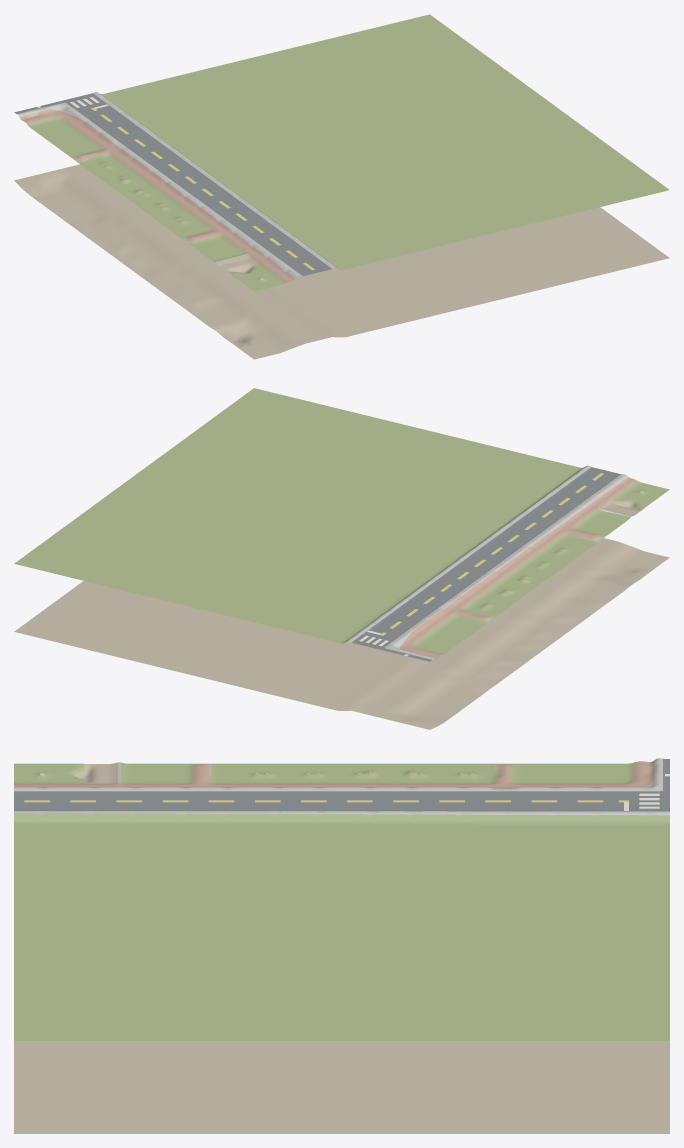
3 renders of one model, top to bottom at view 1: azimuth 30°, elevation 25°; view 2: azimuth 150°, elevation 25°; view 3: azimuth 270°, elevation 25°, orthographic. The views are drawn at different scales.
Visible parts, largest first — view 1: s_-4_4__grass, s_-4_4__soil, s_-4_4__asphalt, s_-4_4__brick_paving, s_-4_4__stone_paving; view 2: s_-4_4__grass, s_-4_4__soil, s_-4_4__asphalt, s_-4_4__brick_paving, s_-4_4__stone_paving, s_-4_4__yellow_marking; view 3: s_-4_4__grass, s_-4_4__soil, s_-4_4__asphalt, s_-4_4__stone_paving, s_-4_4__brick_paving, s_-4_4__yellow_marking.
Boxes of the visible parts, left/top/right/bottom form: s_-4_4__grass: left=19, top=14, right=669, bottom=291; s_-4_4__soil: left=14, top=157, right=669, bottom=359; s_-4_4__asphalt: left=14, top=93, right=331, bottom=275; s_-4_4__brick_paving: left=20, top=109, right=294, bottom=282; s_-4_4__stone_paving: left=17, top=92, right=335, bottom=278; s_-4_4__grass: left=14, top=388, right=669, bottom=654; s_-4_4__soil: left=14, top=501, right=669, bottom=729; s_-4_4__asphalt: left=351, top=467, right=620, bottom=661; s_-4_4__brick_paving: left=399, top=476, right=636, bottom=658; s_-4_4__stone_paving: left=346, top=465, right=631, bottom=659; s_-4_4__yellow_marking: left=380, top=473, right=603, bottom=635; s_-4_4__grass: left=14, top=760, right=669, bottom=1040; s_-4_4__soil: left=14, top=763, right=669, bottom=1133; s_-4_4__asphalt: left=14, top=758, right=669, bottom=811; s_-4_4__stone_paving: left=14, top=758, right=669, bottom=815; s_-4_4__brick_paving: left=14, top=761, right=654, bottom=788; s_-4_4__yellow_marking: left=24, top=800, right=628, bottom=802.
Size of the model in its own units: 128 by 21.65 by 128.
